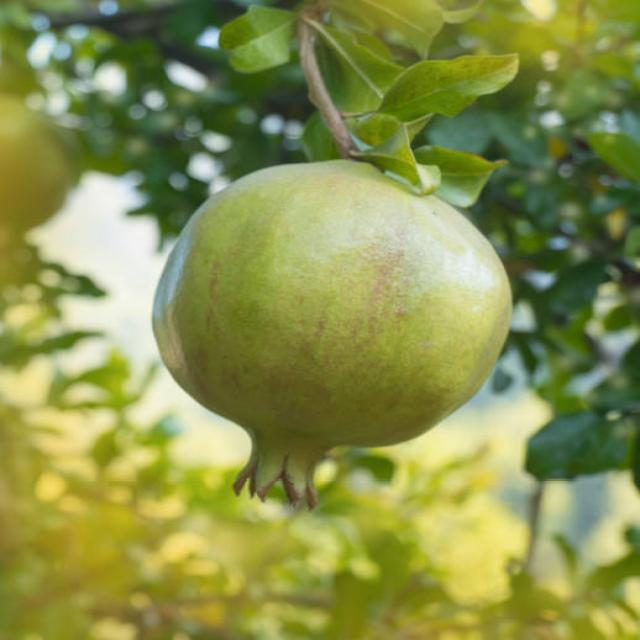Unripe: (152, 153, 511, 513)
